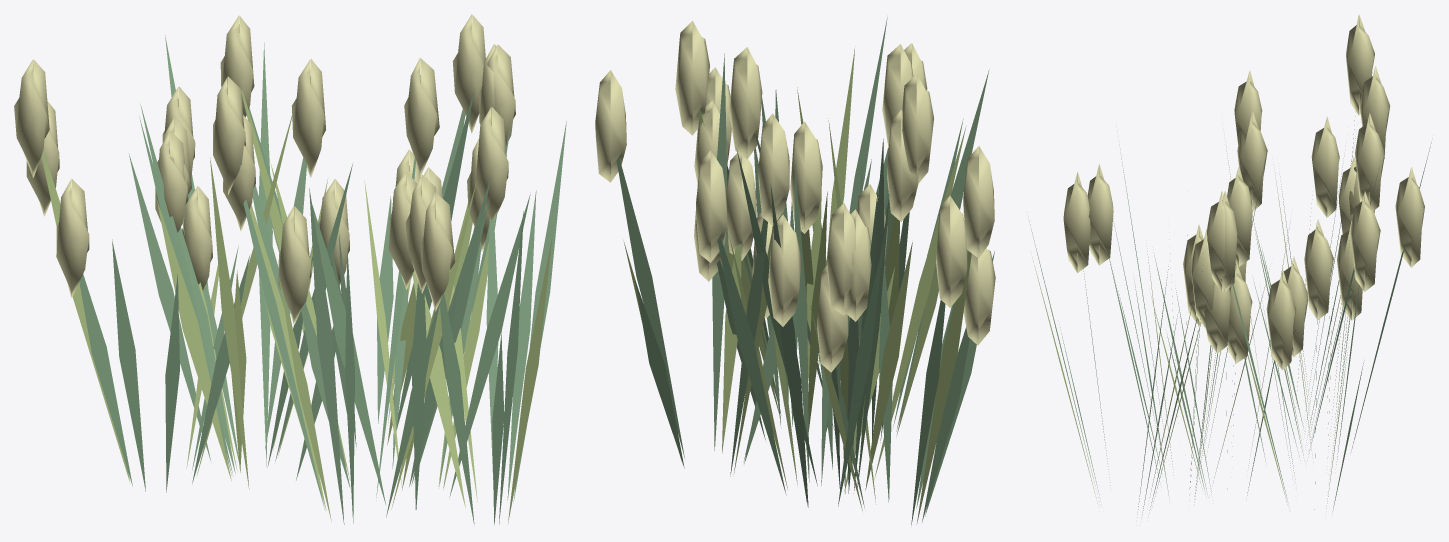
The model's file is sedge_river.glb.
The picture shows the model from 3 angles, left to right: view 1: azimuth 30°, elevation 25°; view 2: azimuth 150°, elevation 25°; view 3: azimuth 270°, elevation 25°; orthographic projection. The views are drawn at different scales.
Parts seen in each view (by area): view 1: sedge_river; view 2: sedge_river; view 3: sedge_river.
Part boxes in pixels (x1=…): sedge_river: x1=14, y1=14, x2=566, y2=524; sedge_river: x1=595, y1=17, x2=995, y2=525; sedge_river: x1=1029, y1=14, x2=1431, y2=517.
Bounding box in the file's own units: 1.81 × 1.69 × 1.7.
